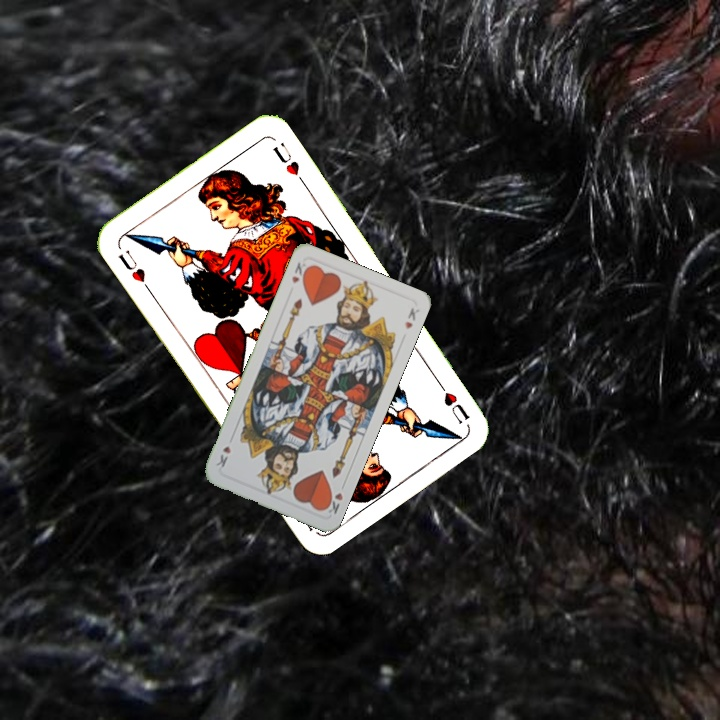HK: (320, 478, 348, 517), (287, 258, 311, 286)
HU: (432, 375, 472, 427), (113, 245, 154, 294)
